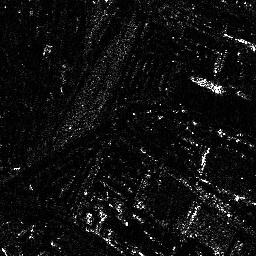ship: (189, 75, 227, 97)
